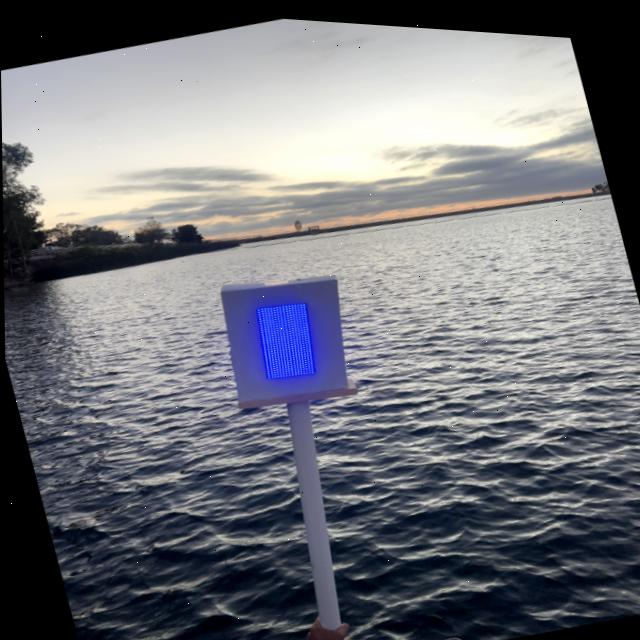led: (238, 272, 343, 396)
